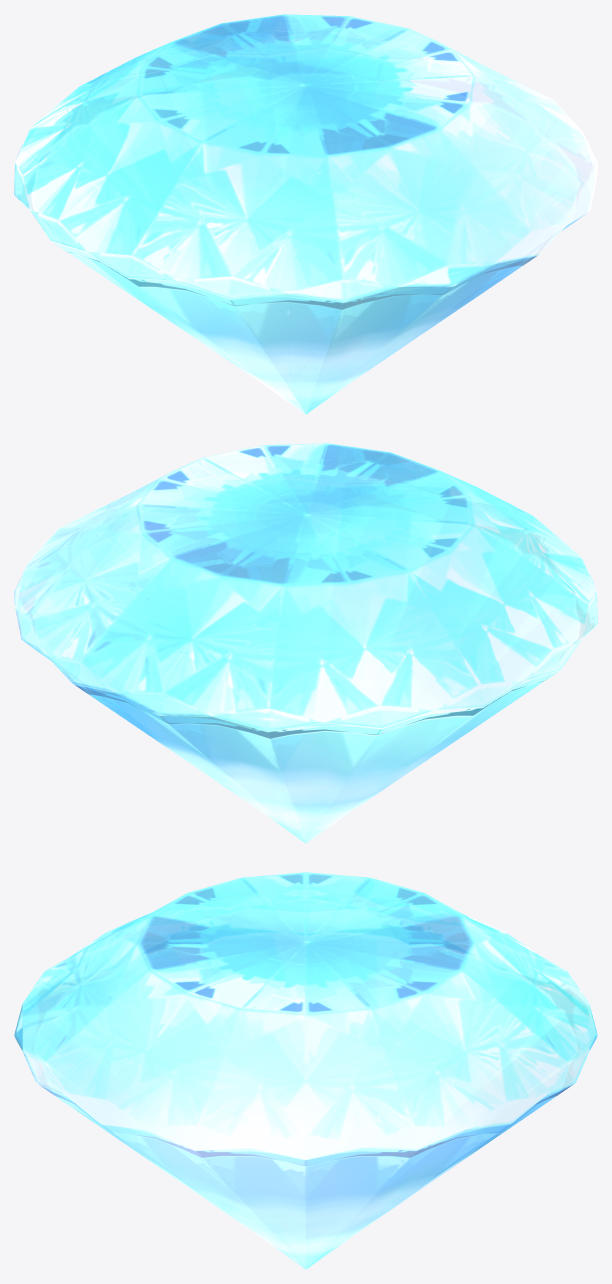
The model's file is diamand__test2.glb.
3 views of the same model, one above another, from view 1: azimuth 30°, elevation 25°; view 2: azimuth 150°, elevation 25°; view 3: azimuth 270°, elevation 25° (orthographic).
Visible parts, largest first — view 1: pCone1.001; view 2: pCone1.001; view 3: pCone1.001.
Boxes of the visible parts, x1,y1,x2,y2 form: pCone1.001: (14,14,597,414); pCone1.001: (14,443,597,843); pCone1.001: (14,872,597,1269).
Bounding box in the file's own units: 2 × 1.23 × 2.
Materials: 1 (1 with a texture image).
